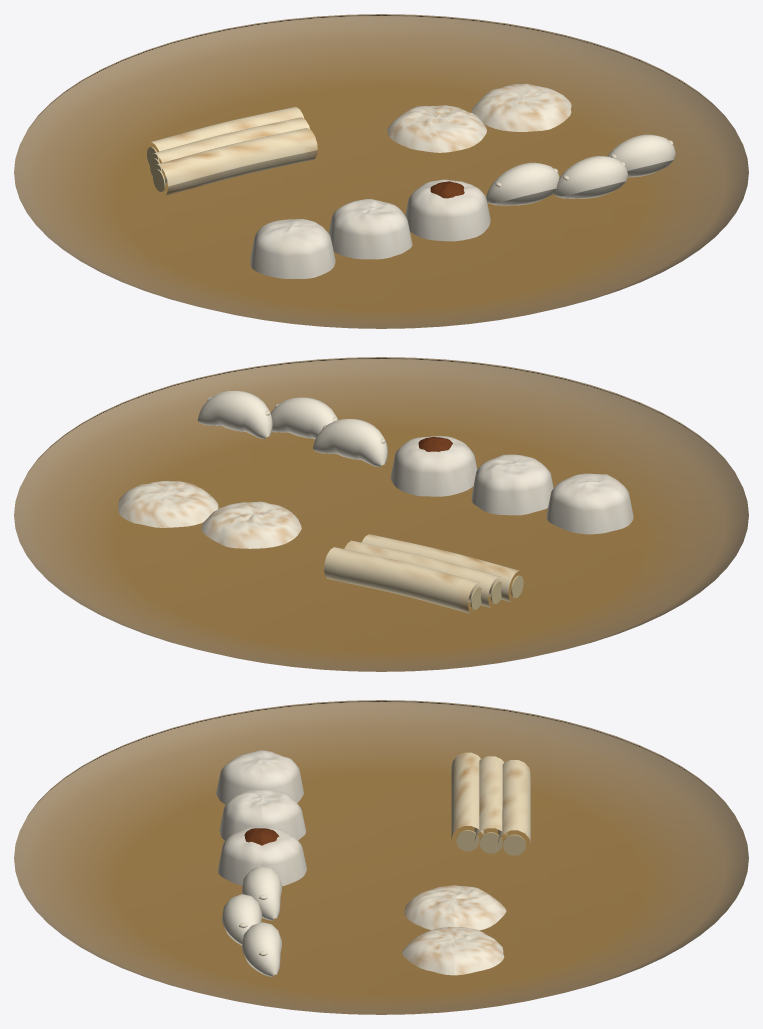
Rendered from pitha-assortment.glb.
The picture shows the model from 3 angles, top to bottom: view 1: azimuth 30°, elevation 25°; view 2: azimuth 150°, elevation 25°; view 3: azimuth 270°, elevation 25°; orthographic projection.
Parts seen in each view (by area): view 1: plate, food, fried; view 2: plate, food, fried; view 3: plate, food, fried.
Part boxes in pixels (<box>): plate: <box>14,14,748,328</box>; food: <box>147,134,675,278</box>; fried: <box>150,83,571,195</box>; plate: <box>14,357,748,671</box>; food: <box>197,390,633,609</box>; fried: <box>118,481,520,613</box>; plate: <box>14,700,748,1014</box>; food: <box>216,750,525,976</box>; fried: <box>402,752,530,975</box>.
Bounding box in the file's own units: 2.21 × 0.1904 × 2.21.
